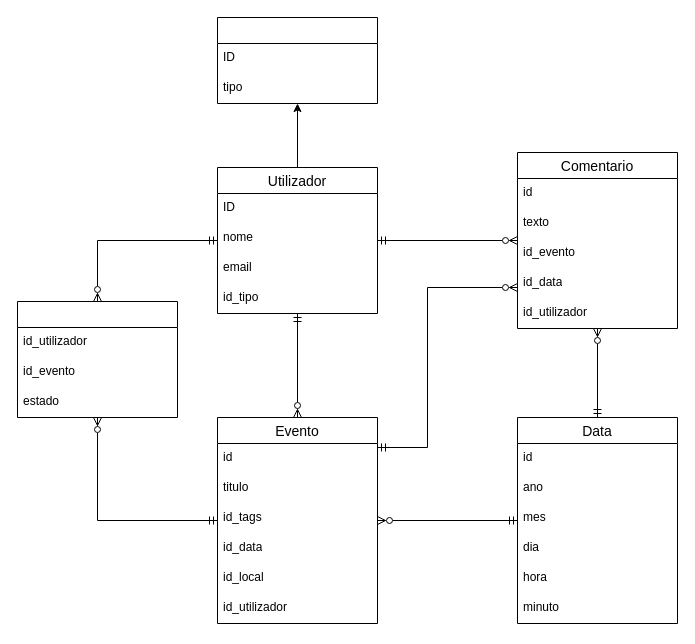
The diagram is 695 pixels wide and 644 high, and some of its shapes have lost their labels. The shapes that lost their labels are listed below. From the top down, each one's box as (x1, y1, x2, y2) in pixels, then its label:
(216, 16, 378, 104): TipoUtilizador
(16, 300, 178, 418): Inscricao
